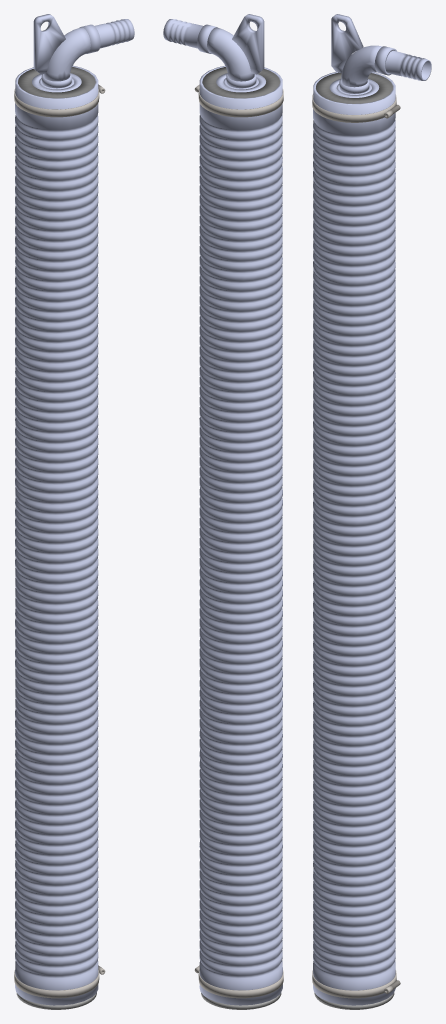
Rendered from TUBE LIFT ID 140.fbx.
3 renders of one model, left to right at view 1: azimuth 30°, elevation 25°; view 2: azimuth 150°, elevation 25°; view 3: azimuth 330°, elevation 25°, orthographic.
Parts seen in each view (by area): view 1: APP.MRD.ong_TUBE_LIFTER_ID140, APP.MRD.co_treo, APP.MRD.adapter_top_ID140, APP.MRD.duoi_chuot_ong_50_ren_43-2, APP.MRD.co_de_ID140, APP.MRD.co_de_ID140_2, APP.MRD.bac_dan_61908_2, APP.MRD1.MT.dau_nhua_tren_ID140, APP.MRD.noi_ren_42; view 2: APP.MRD.ong_TUBE_LIFTER_ID140, APP.MRD.co_treo, APP.MRD.adapter_top_ID140, APP.MRD.duoi_chuot_ong_50_ren_43-2, APP.MRD.co_de_ID140, APP.MRD.co_de_ID140_2, APP.MRD.bac_dan_61908_2, APP.MRD1.MT.dau_nhua_tren_ID140, APP.MRD.noi_ren_42; view 3: APP.MRD.ong_TUBE_LIFTER_ID140, APP.MRD.co_treo, APP.MRD.adapter_top_ID140, APP.MRD.duoi_chuot_ong_50_ren_43-2, APP.MRD.co_de_ID140, APP.MRD.co_de_ID140_2, APP.MRD.bac_dan_61908_2, APP.MRD1.MT.dau_nhua_tren_ID140, APP.MRD.noi_ren_42.
Part boxes in pixels (x1,y1,x2,y2): APP.MRD.ong_TUBE_LIFTER_ID140: (15, 65, 98, 1005); APP.MRD.co_treo: (33, 14, 90, 81); APP.MRD.adapter_top_ID140: (18, 67, 95, 98); APP.MRD.duoi_chuot_ong_50_ren_43-2: (95, 19, 134, 48); APP.MRD.co_de_ID140: (14, 84, 105, 117); APP.MRD.co_de_ID140_2: (14, 965, 105, 998); APP.MRD.bac_dan_61908_2: (32, 73, 81, 92); APP.MRD1.MT.dau_nhua_tren_ID140: (16, 992, 96, 1009); APP.MRD.noi_ren_42: (79, 24, 100, 53); APP.MRD.ong_TUBE_LIFTER_ID140: (199, 66, 282, 1005); APP.MRD.co_treo: (207, 14, 264, 81); APP.MRD.adapter_top_ID140: (202, 67, 279, 98); APP.MRD.duoi_chuot_ong_50_ren_43-2: (163, 19, 202, 48); APP.MRD.co_de_ID140: (194, 84, 283, 117); APP.MRD.co_de_ID140_2: (194, 965, 283, 998); APP.MRD.bac_dan_61908_2: (216, 73, 265, 92); APP.MRD1.MT.dau_nhua_tren_ID140: (201, 993, 281, 1009); APP.MRD.noi_ren_42: (197, 24, 217, 53); APP.MRD.ong_TUBE_LIFTER_ID140: (313, 72, 395, 1005); APP.MRD.co_treo: (331, 14, 382, 87); APP.MRD.adapter_top_ID140: (316, 72, 392, 103); APP.MRD.duoi_chuot_ong_50_ren_43-2: (385, 50, 431, 80); APP.MRD.co_de_ID140: (312, 94, 400, 122); APP.MRD.co_de_ID140_2: (312, 970, 400, 998); APP.MRD.bac_dan_61908_2: (329, 79, 379, 97); APP.MRD1.MT.dau_nhua_tren_ID140: (314, 992, 394, 1009); APP.MRD.noi_ren_42: (374, 46, 396, 75).
Bounding box in the file's own units: 227 × 1949 × 153.
